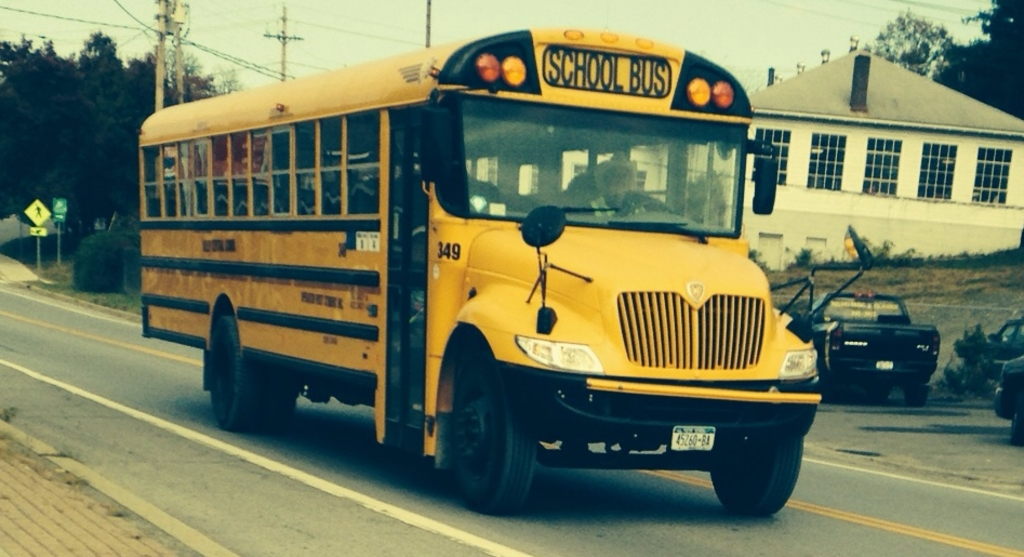Car: (826, 293, 929, 409), (994, 350, 1022, 443), (985, 320, 1022, 380)
